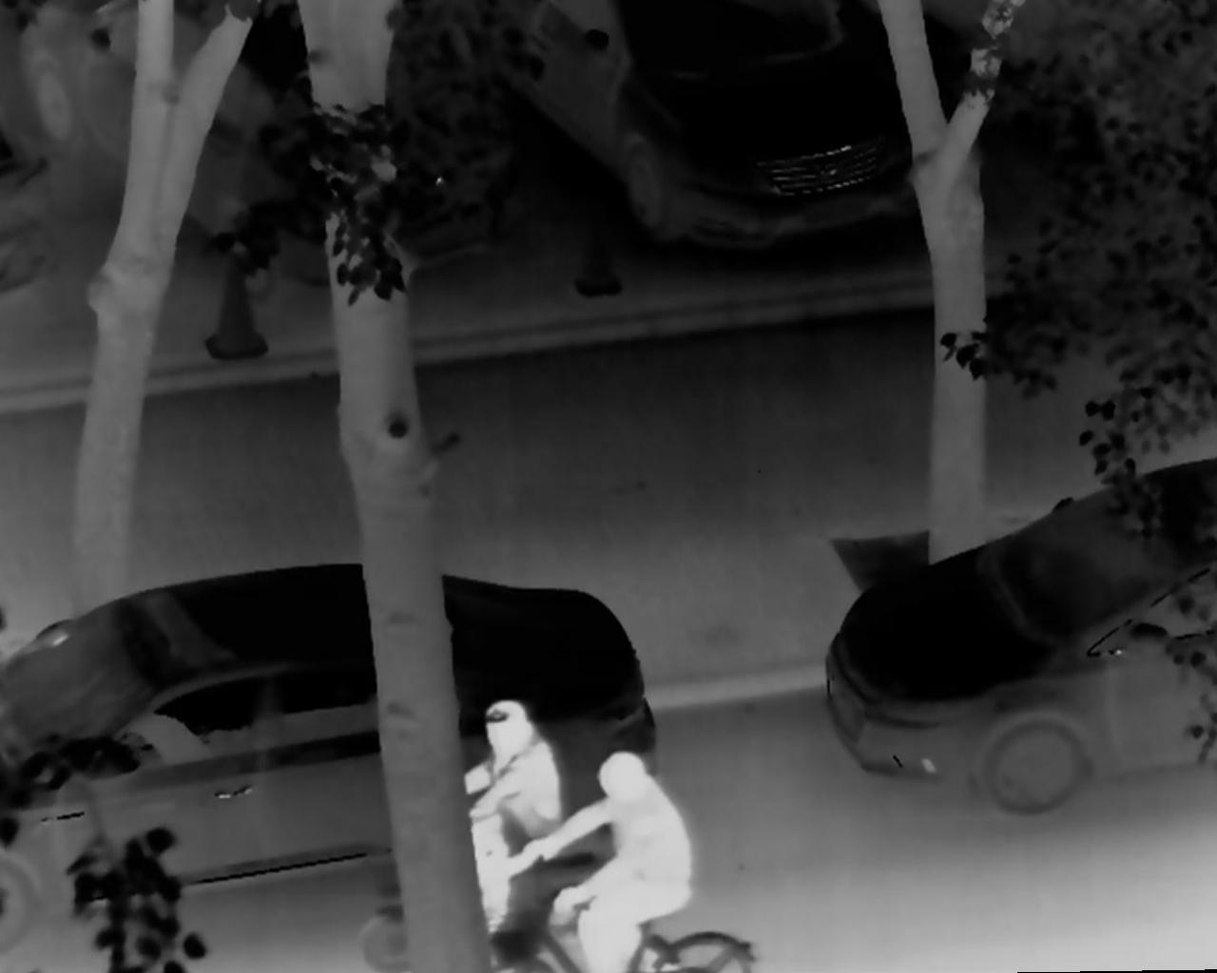person: (527, 751, 689, 973), (454, 690, 566, 943)
